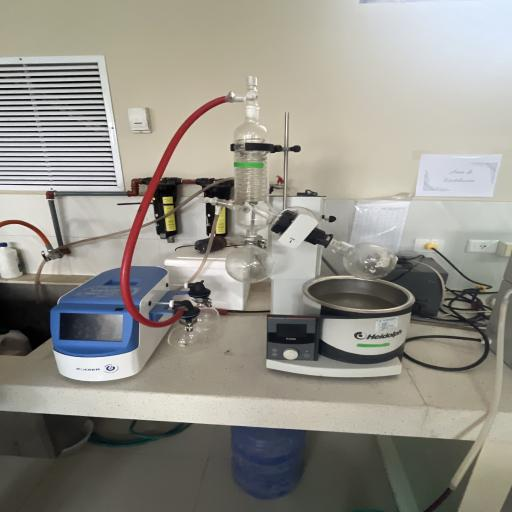Sistema_Rotaevaporacion: (46, 71, 416, 389)
